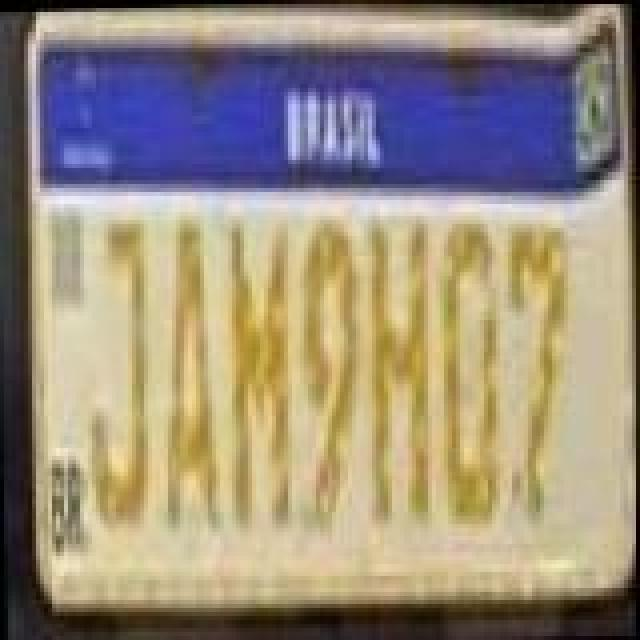7: (504, 222, 576, 522)
9: (290, 212, 366, 528)
A: (152, 210, 224, 530)
D: (434, 206, 510, 522)
H: (362, 206, 438, 530)
J: (84, 204, 156, 536)
M: (218, 204, 294, 540)
